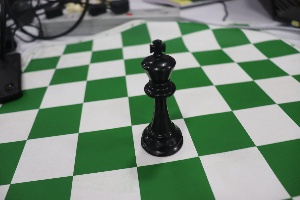black_king: (131, 26, 190, 169)
